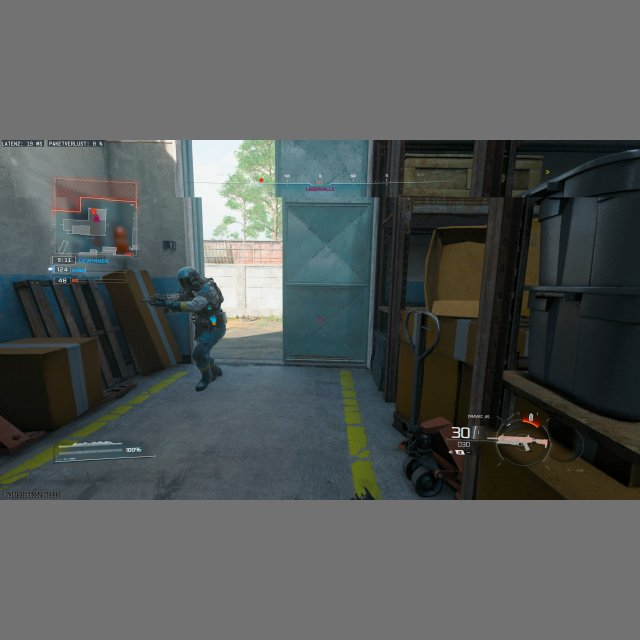head: (177, 266, 200, 293)
player: (163, 266, 226, 392)
